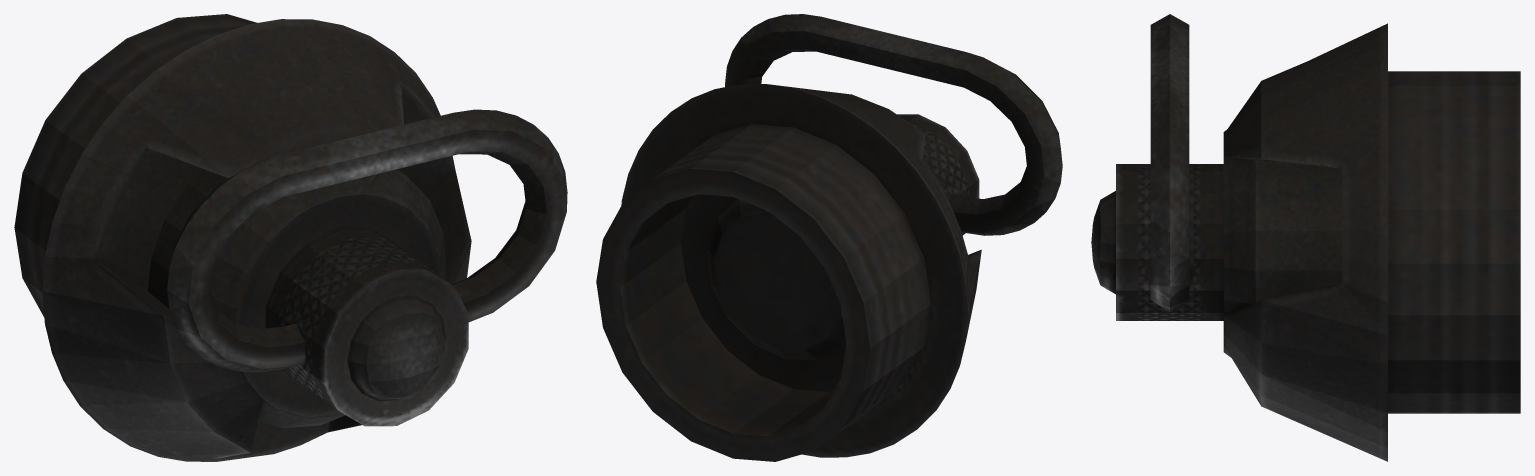
The picture shows the model from 3 angles, left to right: view 1: azimuth 30°, elevation 25°; view 2: azimuth 150°, elevation 25°; view 3: azimuth 270°, elevation 25°; orthographic projection. The views are drawn at different scales.
Visible parts, largest first — view 1: TW_5fb655a72b1b027b1f50bd06_PZ_Import; view 2: TW_5fb655a72b1b027b1f50bd06_PZ_Import; view 3: TW_5fb655a72b1b027b1f50bd06_PZ_Import.
Boxes of the visible parts, x1,y1,x2,y2 form: TW_5fb655a72b1b027b1f50bd06_PZ_Import: [14, 14, 567, 461]; TW_5fb655a72b1b027b1f50bd06_PZ_Import: [596, 14, 1062, 461]; TW_5fb655a72b1b027b1f50bd06_PZ_Import: [1091, 14, 1520, 461].
Bounding box in the file's own units: 0.0203 × 0.0199 × 0.0203.
1 material, 1 textured.
